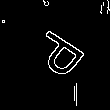P_SE: (20, 25, 90, 85)
